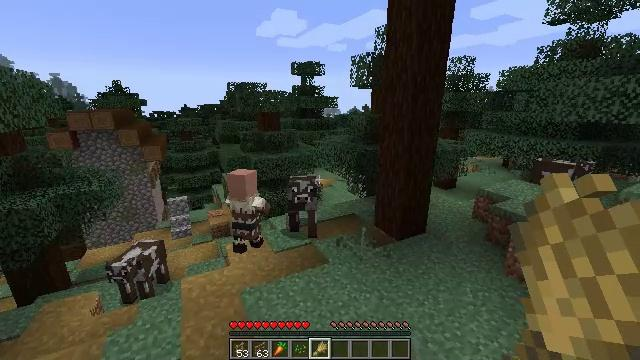cow: (110, 241, 170, 302), (531, 155, 594, 193), (286, 176, 318, 241)
